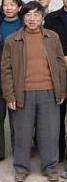boots: (14, 171, 27, 182), (0, 155, 9, 165)
